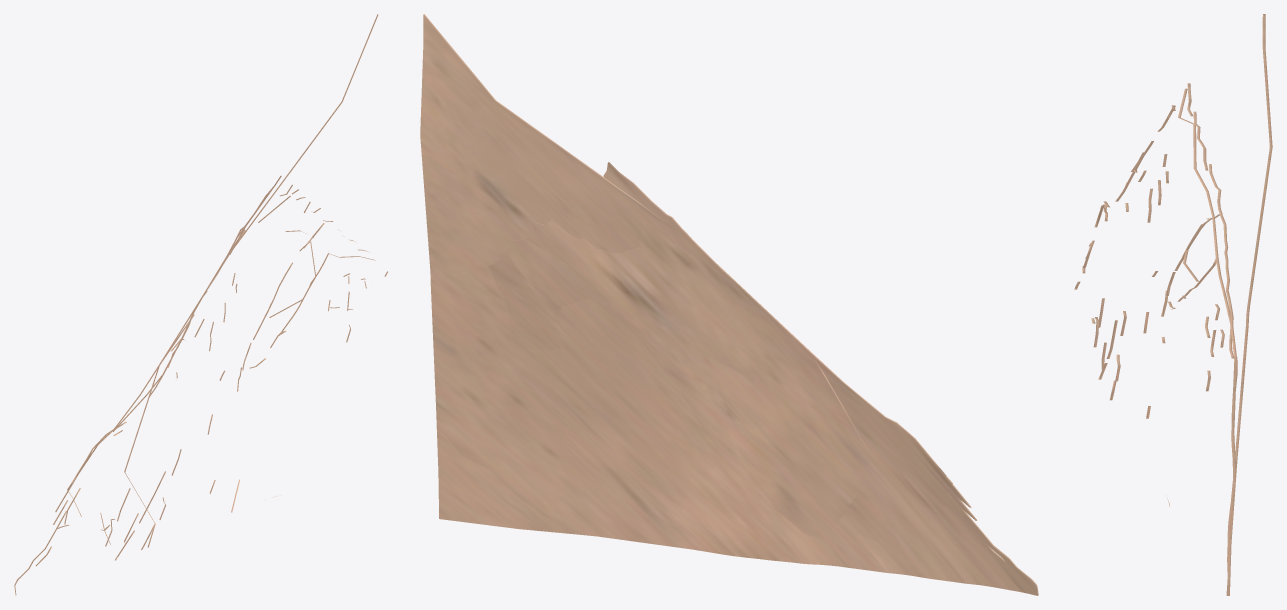
3 renders of one model, left to right at view 1: azimuth 30°, elevation 25°; view 2: azimuth 150°, elevation 25°; view 3: azimuth 270°, elevation 25°, orthographic. The views are drawn at different scales.
Bounding box in the file's own units: 24.26 × 22.66 × 7.25.
1 material, 1 textured.
